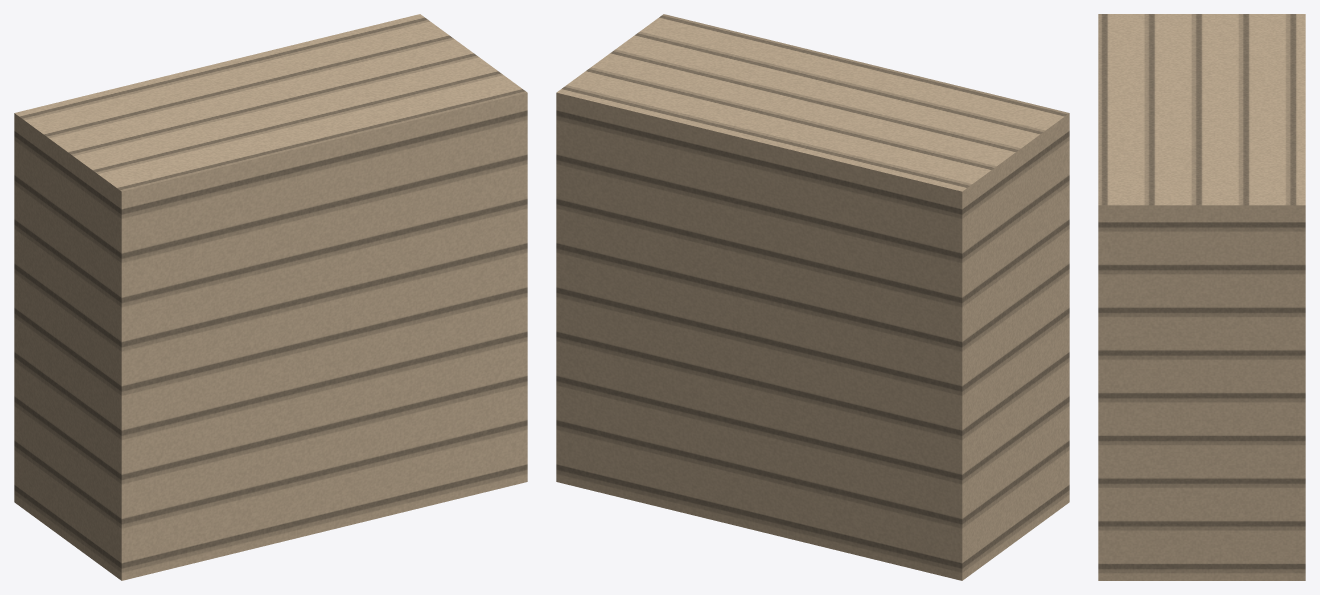
File: glass_display_case_retail.glb
3 renders of one model, left to right at view 1: azimuth 30°, elevation 25°; view 2: azimuth 150°, elevation 25°; view 3: azimuth 270°, elevation 25°, orthographic. The views are drawn at different scales.
Visible parts, largest first — view 1: glass_display_case_retail-col; view 2: glass_display_case_retail-col; view 3: glass_display_case_retail-col.
Boxes of the visible parts, bbox=[...] form: glass_display_case_retail-col: bbox=[14, 14, 527, 580]; glass_display_case_retail-col: bbox=[556, 14, 1069, 580]; glass_display_case_retail-col: bbox=[1098, 14, 1305, 580].
Size of the model in its own units: 1.2 by 1.1 by 0.55.
1 material, 1 textured.
